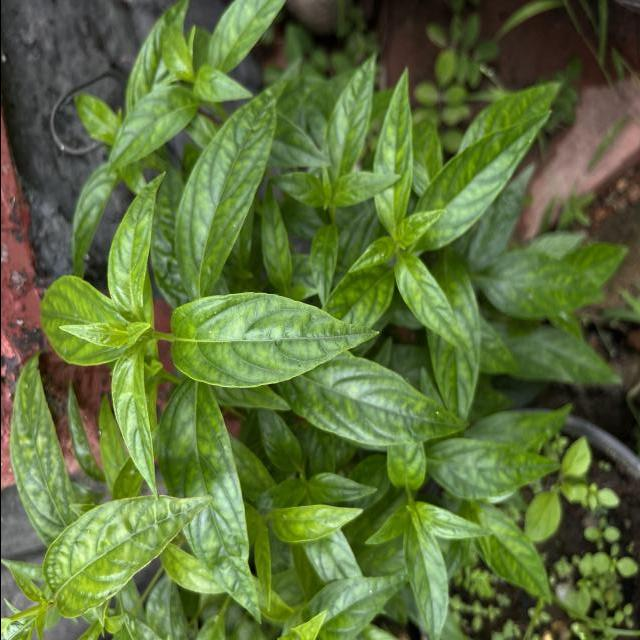Andrographis paniculata: (158, 384, 264, 630), (170, 79, 280, 297), (39, 490, 214, 618), (169, 289, 381, 392), (410, 107, 554, 252), (274, 352, 472, 448), (6, 352, 76, 548), (104, 168, 168, 324), (475, 248, 606, 322), (104, 84, 202, 177), (392, 251, 476, 353), (424, 436, 559, 498), (34, 274, 123, 368), (321, 51, 378, 186), (370, 62, 415, 232), (108, 350, 158, 502), (402, 513, 449, 640), (69, 157, 115, 278), (268, 498, 364, 545)
